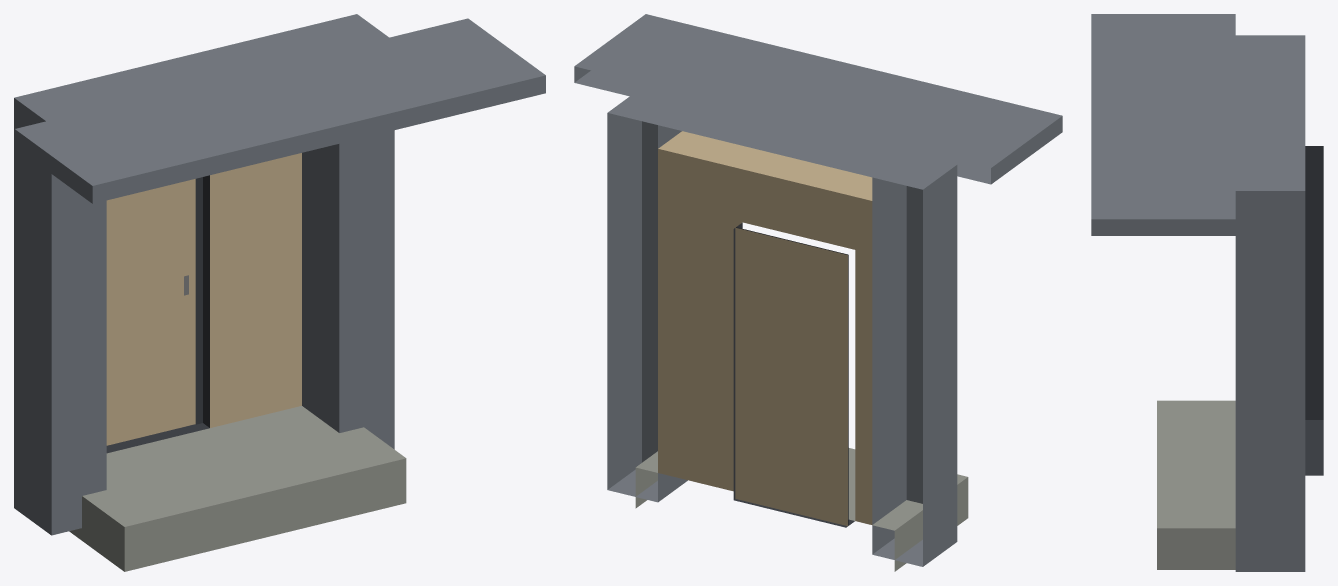
The model's file is entrance.fbx.
3 views of the same model, side by side, from view 1: azimuth 30°, elevation 25°; view 2: azimuth 150°, elevation 25°; view 3: azimuth 270°, elevation 25° (orthographic). The views are drawn at different scales.
Visible parts, largest first — view 1: a2000s2/600/entrance; view 2: a2000s2/600/entrance; view 3: a2000s2/600/entrance.
Boxes of the visible parts, left/top/right/bottom form: a2000s2/600/entrance: left=14, top=14, right=545, bottom=571; a2000s2/600/entrance: left=574, top=14, right=1062, bottom=571; a2000s2/600/entrance: left=1091, top=14, right=1323, bottom=571.
Size of the model in its own units: 3.7 by 3.34 by 1.77.
